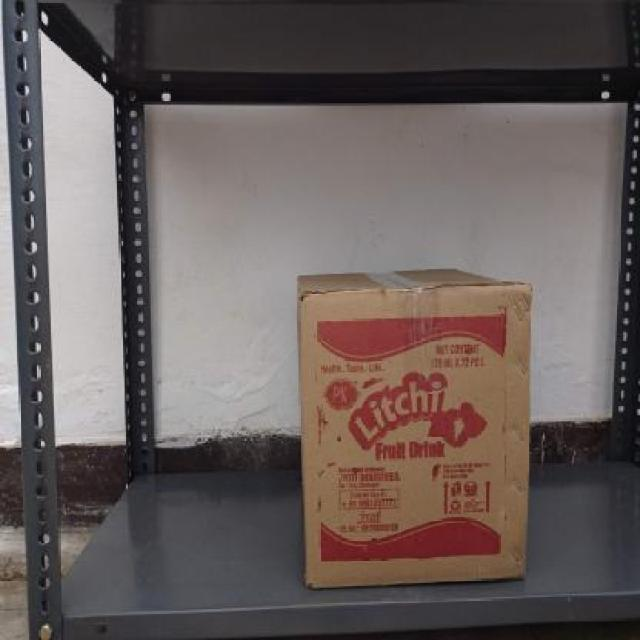box: (296, 294, 530, 582)
